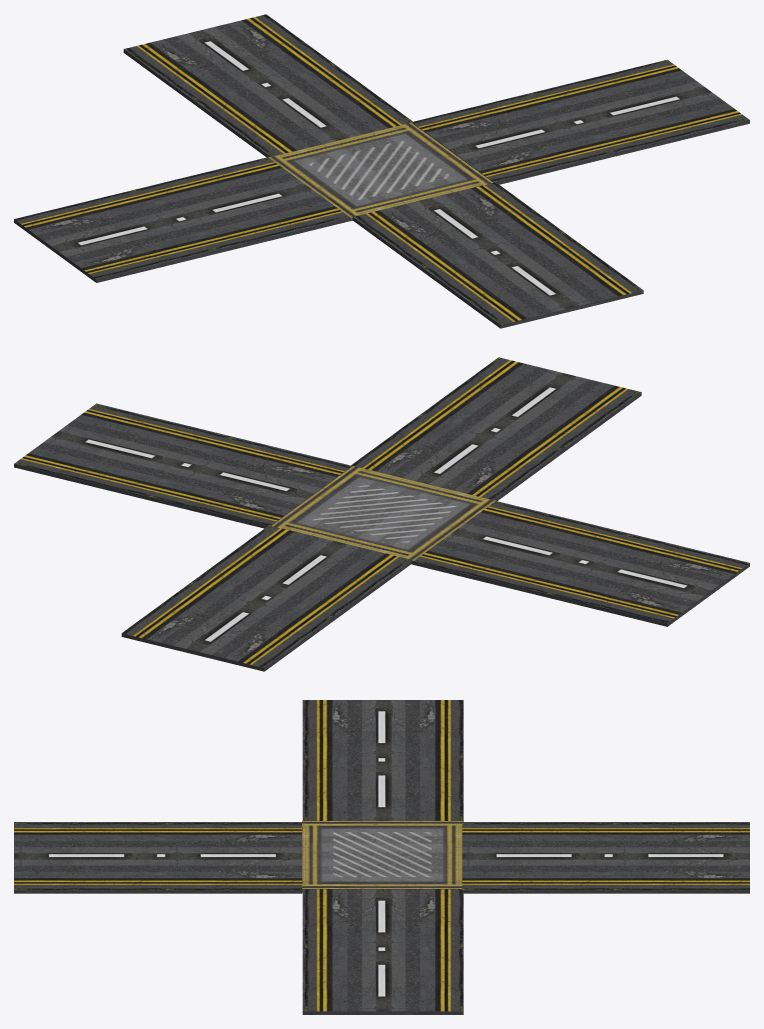
The picture shows the model from 3 angles, top to bottom: view 1: azimuth 30°, elevation 25°; view 2: azimuth 150°, elevation 25°; view 3: azimuth 270°, elevation 25°; orthographic projection. The views are drawn at different scales.
Visible parts, largest first — view 1: Mesh2_phong9_0, old_road:Mesh, Mesh1_phong9_0, Mesh3_phong9_0, Mesh_phong10_0; view 2: Mesh2_phong9_0, Mesh3_phong9_0, Mesh1_phong9_0, old_road:Mesh, Mesh_phong10_0; view 3: old_road:Mesh, Mesh3_phong9_0, Mesh1_phong9_0, Mesh2_phong9_0, Mesh_phong10_0.
Part boxes in pixels (left/top/right/bottom): Mesh2_phong9_0: left=14, top=156, right=350, bottom=282; old_road:Mesh: left=353, top=182, right=643, bottom=328; Mesh1_phong9_0: left=412, top=59, right=749, bottom=184; Mesh3_phong9_0: left=123, top=14, right=413, bottom=157; Mesh_phong10_0: left=269, top=122, right=493, bottom=221; Mesh2_phong9_0: left=411, top=501, right=749, bottom=626; Mesh3_phong9_0: left=121, top=525, right=411, bottom=671; Mesh1_phong9_0: left=14, top=403, right=352, bottom=528; old_road:Mesh: left=351, top=357, right=641, bottom=500; Mesh_phong10_0: left=271, top=466, right=495, bottom=560; old_road:Mesh: left=14, top=822, right=302, bottom=893; Mesh3_phong9_0: left=461, top=822, right=749, bottom=893; Mesh1_phong9_0: left=302, top=889, right=463, bottom=1014; Mesh2_phong9_0: left=302, top=700, right=463, bottom=821; Mesh_phong10_0: left=302, top=821, right=462, bottom=892.
Bounding box in the file's own units: 22.92 × 0.123 × 22.91.
2 materials, 2 textured.
